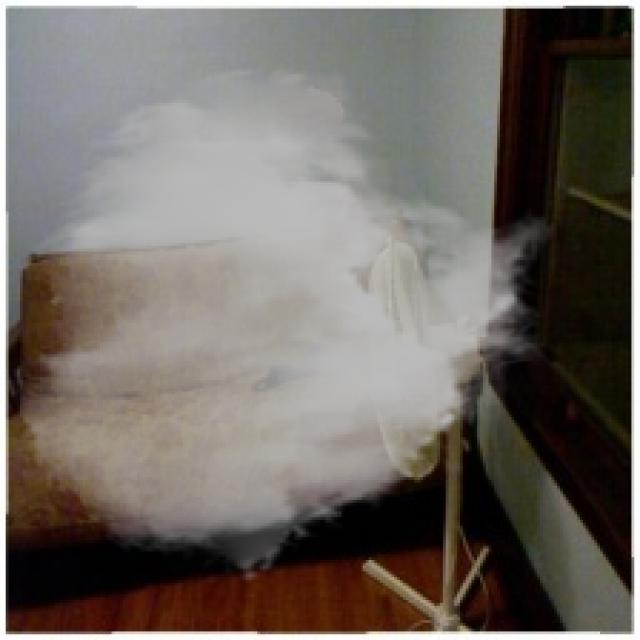smoke: (14, 63, 557, 583)
